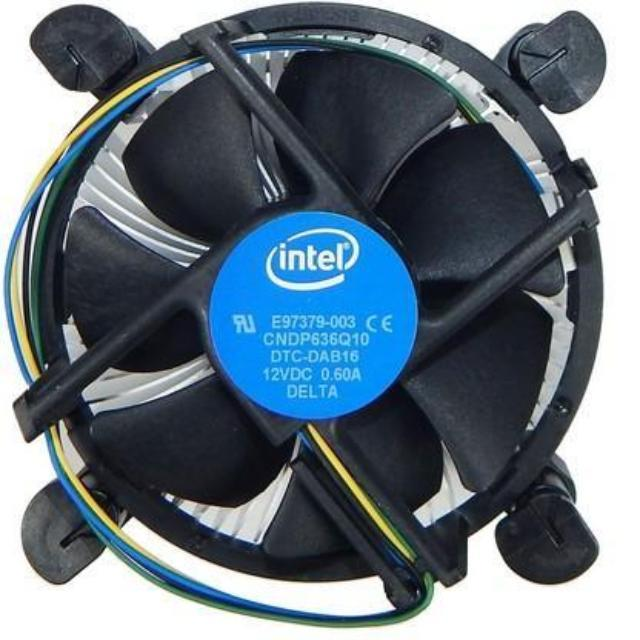CPU_Fan: (23, 3, 591, 617)
